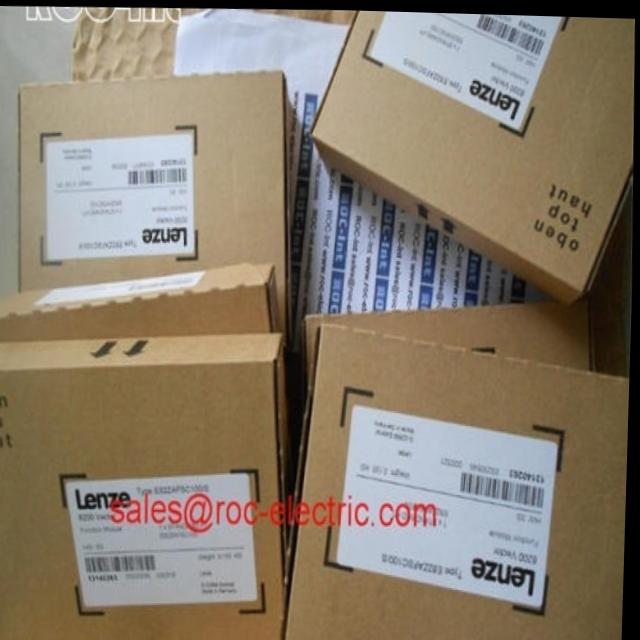box: (282, 323, 631, 640), (310, 8, 634, 300), (0, 330, 291, 640), (17, 68, 293, 351), (304, 289, 595, 408), (0, 259, 284, 340)
